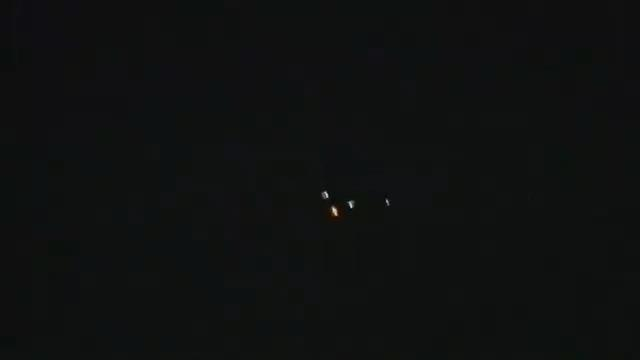Plane: (273, 175, 422, 233)
